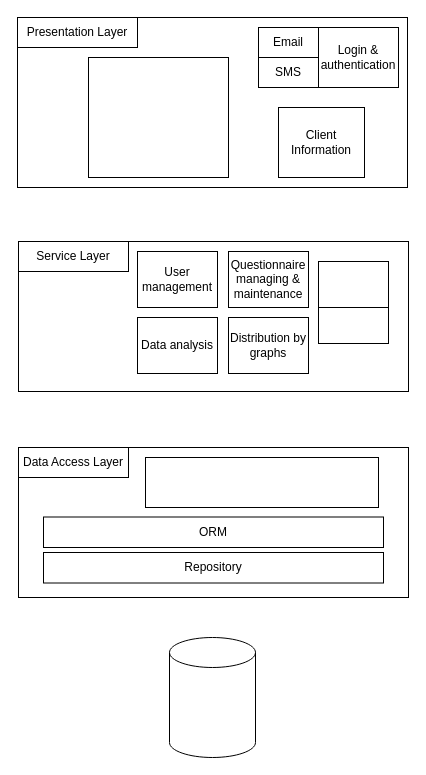
Some shapes in this 426 by 775 pixel diagram are drawn without their labels. Each missing label, with the box of its shape:
Client Data: (318, 306, 388, 344)
Client Information List: (318, 260, 388, 308)
DB: (168, 636, 256, 758)
Questionnaire Views: (88, 56, 228, 178)
Users: (144, 456, 378, 508)
